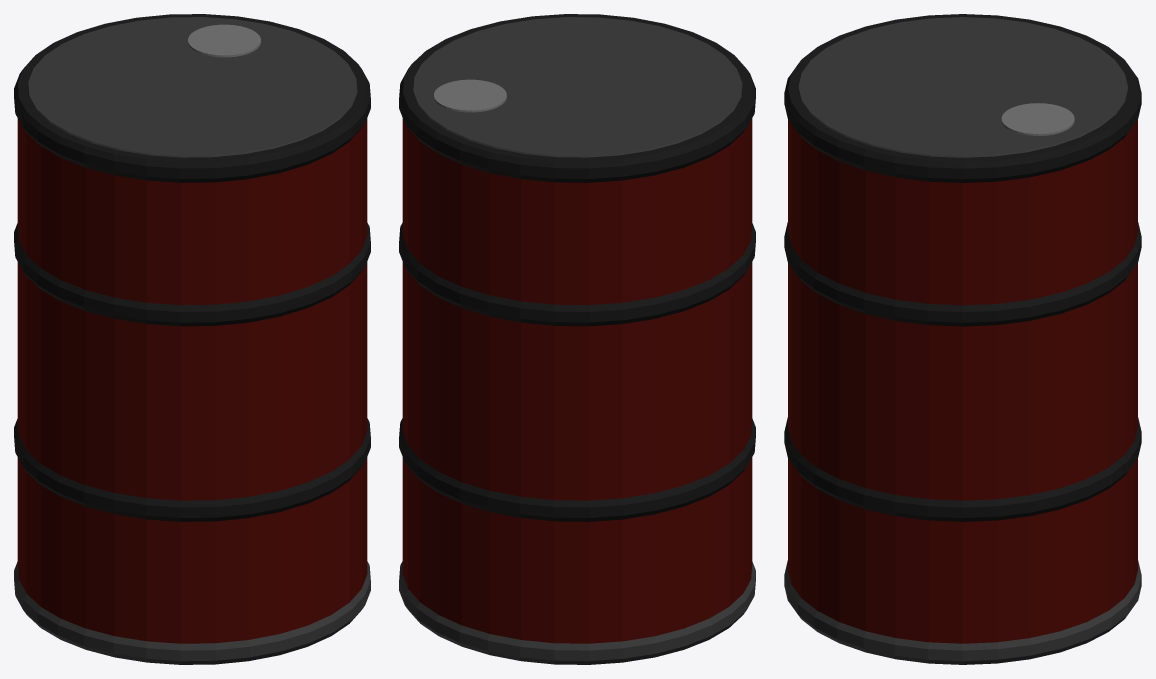
File: Barrel2.fbx
The picture shows the model from 3 angles, left to right: view 1: azimuth 30°, elevation 25°; view 2: azimuth 150°, elevation 25°; view 3: azimuth 270°, elevation 25°; orthographic projection.
Parts seen in each view (by area): view 1: Cylinder, Cylinder.006, Cylinder.001, Cylinder.003, Cylinder.002, Cylinder.004, Cylinder.005; view 2: Cylinder, Cylinder.006, Cylinder.001, Cylinder.003, Cylinder.002, Cylinder.004, Cylinder.005; view 3: Cylinder, Cylinder.006, Cylinder.001, Cylinder.002, Cylinder.004, Cylinder.003, Cylinder.005.
Part boxes in pixels (bbox=[...]): Cylinder: bbox=[17, 118, 367, 643]; Cylinder.006: bbox=[27, 17, 357, 157]; Cylinder.001: bbox=[14, 14, 370, 182]; Cylinder.003: bbox=[14, 418, 370, 521]; Cylinder.002: bbox=[14, 561, 370, 664]; Cylinder.004: bbox=[14, 223, 370, 326]; Cylinder.005: bbox=[187, 24, 261, 57]; Cylinder: bbox=[402, 118, 752, 643]; Cylinder.006: bbox=[412, 17, 742, 157]; Cylinder.001: bbox=[399, 14, 755, 182]; Cylinder.003: bbox=[399, 418, 755, 521]; Cylinder.002: bbox=[399, 561, 755, 664]; Cylinder.004: bbox=[399, 223, 755, 326]; Cylinder.005: bbox=[433, 79, 506, 112]; Cylinder: bbox=[788, 119, 1137, 643]; Cylinder.006: bbox=[797, 17, 1128, 157]; Cylinder.001: bbox=[784, 14, 1141, 182]; Cylinder.002: bbox=[784, 560, 1141, 664]; Cylinder.004: bbox=[784, 222, 1141, 326]; Cylinder.003: bbox=[784, 417, 1141, 521]; Cylinder.005: bbox=[1001, 103, 1074, 135].
Size of the model in its own units: 204 by 319 by 204.
